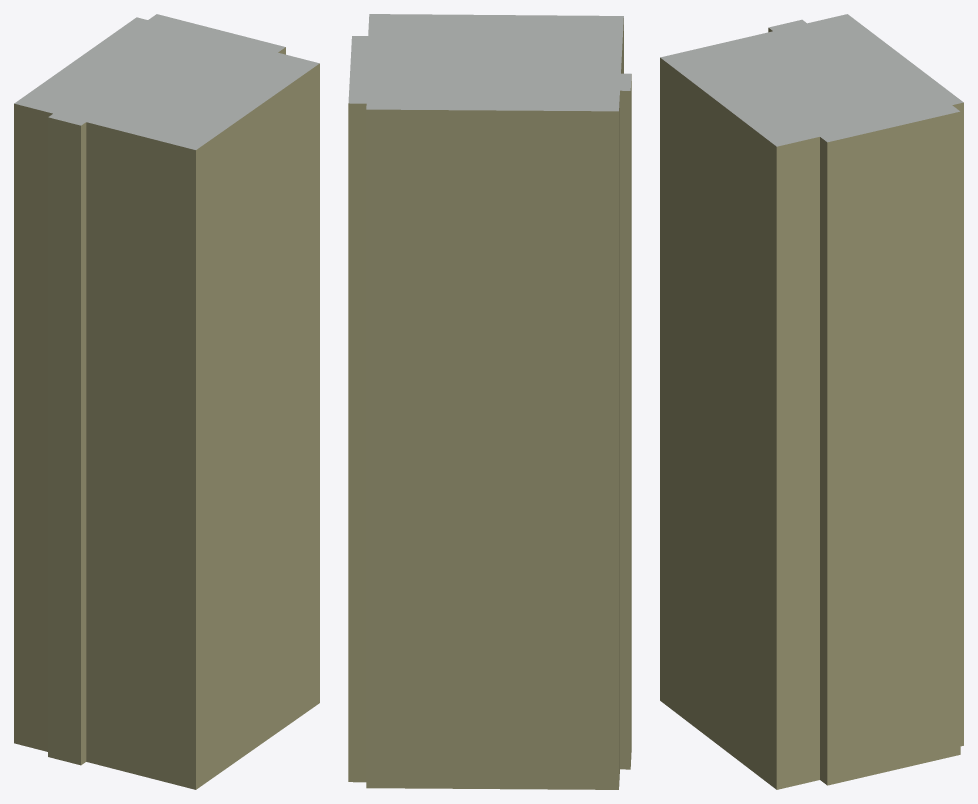
Rendered from nyc-1034196-0.glb.
The picture shows the model from 3 angles, left to right: view 1: azimuth 30°, elevation 25°; view 2: azimuth 150°, elevation 25°; view 3: azimuth 270°, elevation 25°; orthographic projection. The views are drawn at different scales.
Parts seen in each view (by area): view 1: nyc-1034196-0; view 2: nyc-1034196-0; view 3: nyc-1034196-0.
Part boxes in pixels (<box>): nyc-1034196-0: <box>14,14,319,789</box>; nyc-1034196-0: <box>348,14,631,789</box>; nyc-1034196-0: <box>660,14,963,789</box>.
Bounding box in the file's own units: 84.55 × 191 × 81.78.
